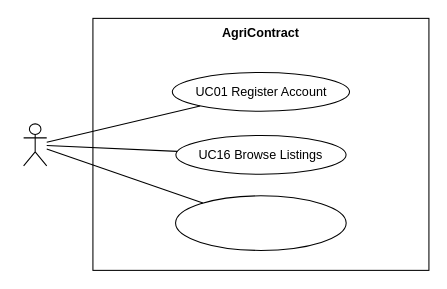
Some shapes in this 447 by 289 pixel diagram are drawn without their labels. The shapes that lost their labels are listed below. From the top down, each one's centre as x and y in pixels, then its label:
At (x=35, y=144): "Guest".
At (x=260, y=222): "UC18 View Reference Prices".
